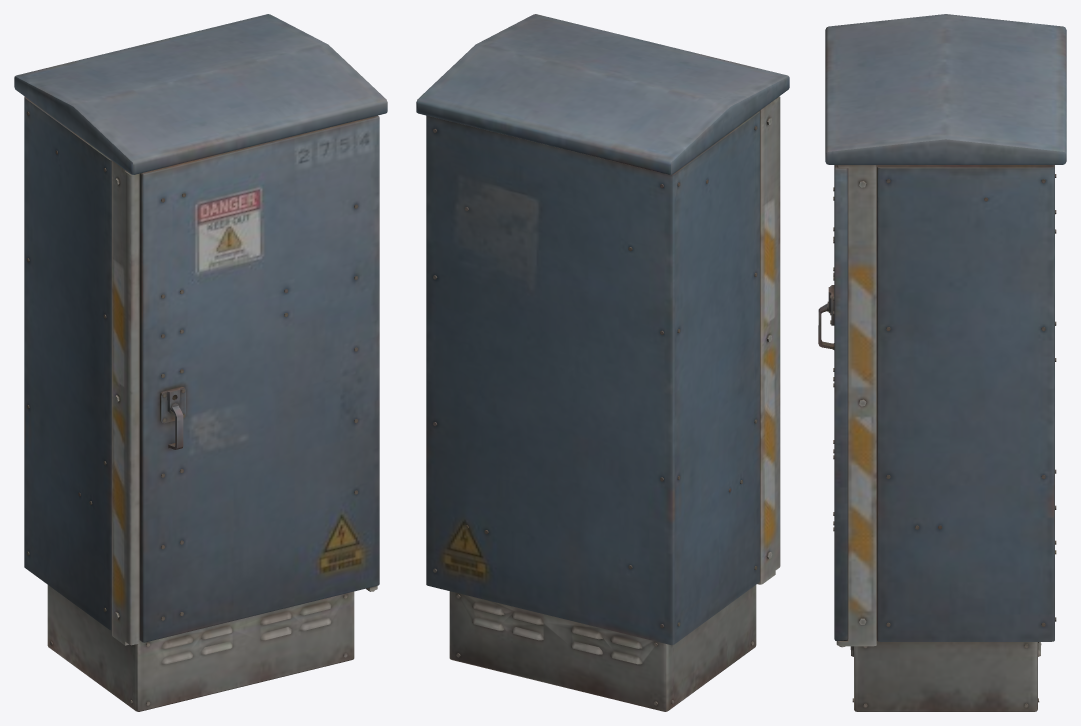
Rendered from utility_box_01.glb.
The picture shows the model from 3 angles, left to right: view 1: azimuth 30°, elevation 25°; view 2: azimuth 150°, elevation 25°; view 3: azimuth 270°, elevation 25°; orthographic projection.
Visible parts, largest first — view 1: utility_box_01; view 2: utility_box_01; view 3: utility_box_01.
Part boxes in pixels (box(x1,y1,x2,y2)): utility_box_01: box(14, 14, 387, 711); utility_box_01: box(416, 14, 789, 711); utility_box_01: box(818, 14, 1066, 711).
Size of the model in its own units: 0.52 by 1.12 by 0.432.
Materials: 1 (1 with a texture image).
